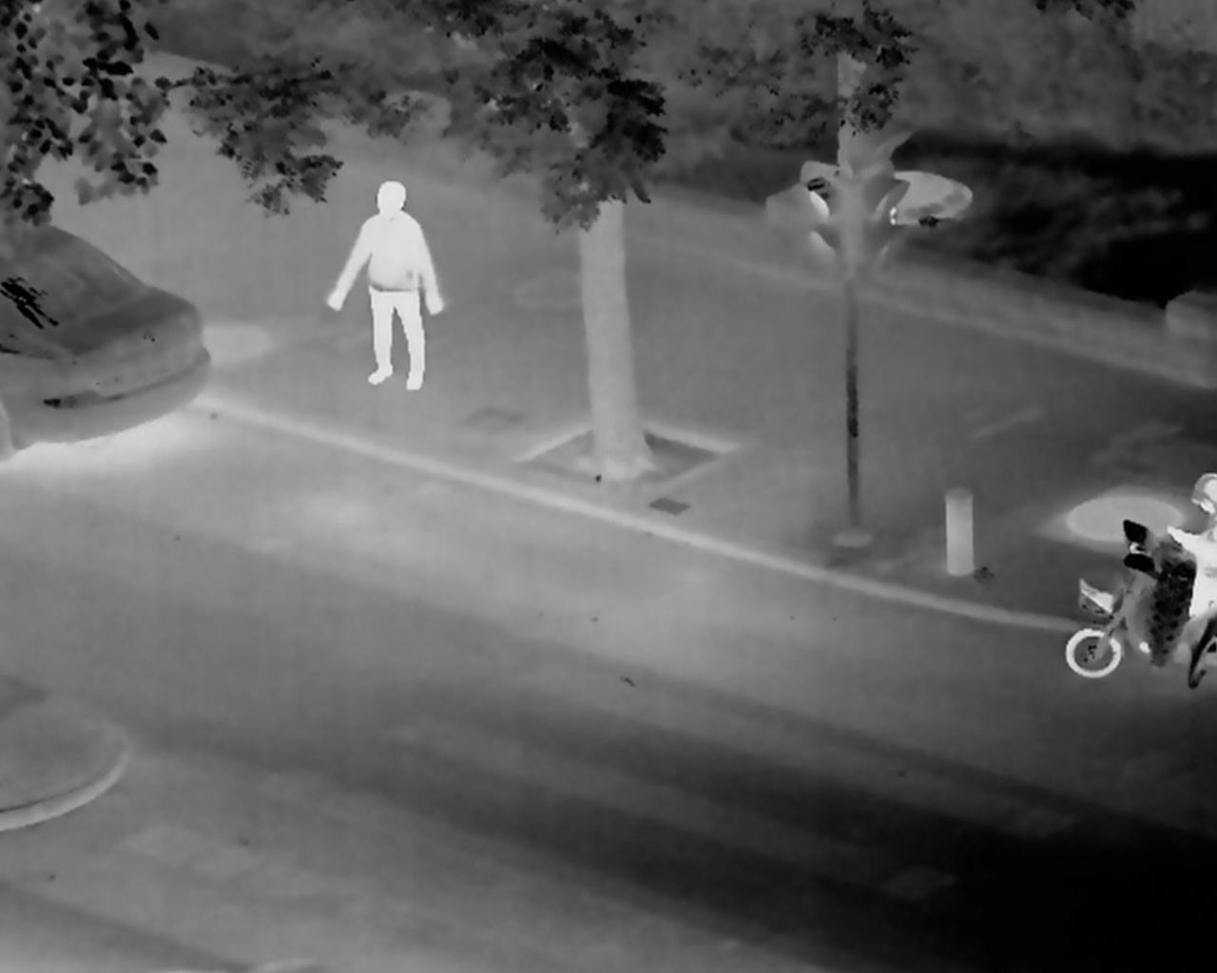person: (333, 170, 474, 400), (1185, 466, 1217, 620)
